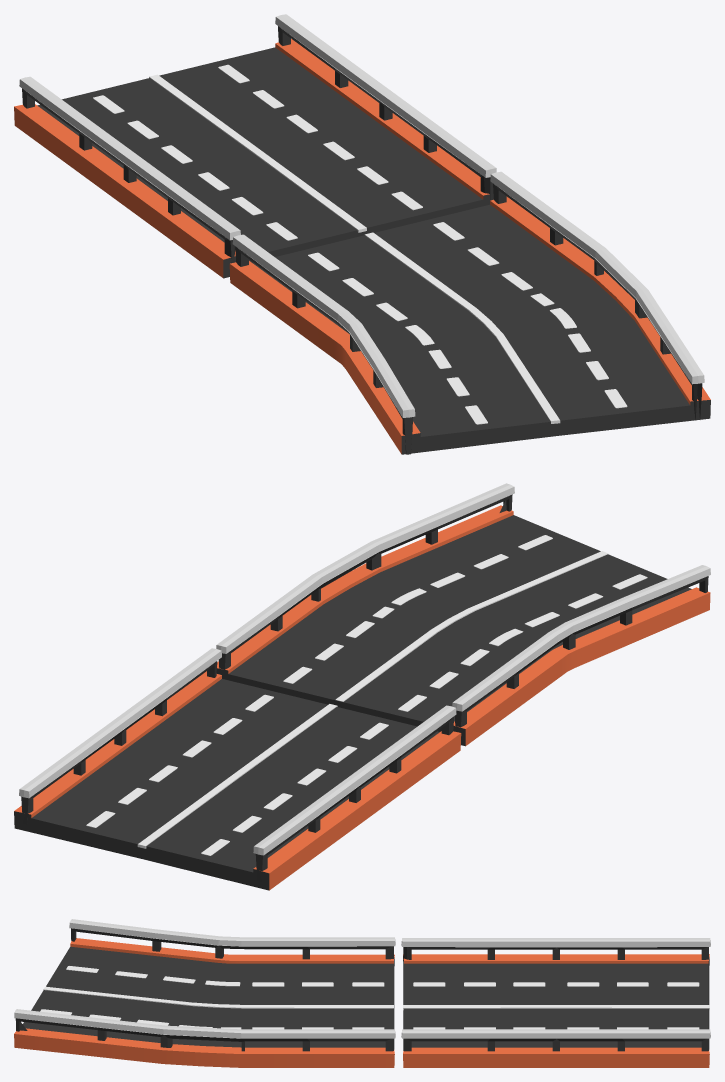
File: road_cartoon_3.fbx
The picture shows the model from 3 angles, top to bottom: view 1: azimuth 30°, elevation 25°; view 2: azimuth 150°, elevation 25°; view 3: azimuth 270°, elevation 25°; orthographic projection. The views are drawn at different scales.
Parts seen in each view (by area): view 1: Plane.004, Plane.003; view 2: Plane.004, Plane.003; view 3: Plane.004, Plane.003.
Boxes of the visible parts, x1=… form: Plane.004: x1=229, y1=171, x2=710, y2=454; Plane.003: x1=14, y1=14, x2=496, y2=278; Plane.004: x1=216, y1=483, x2=710, y2=746; Plane.003: x1=14, y1=648, x2=461, y2=890; Plane.004: x1=14, y1=919, x2=395, y2=1067; Plane.003: x1=401, y1=938, x2=710, y2=1067.
Bounding box in the file's own units: 524 × 70.02 × 1326.
